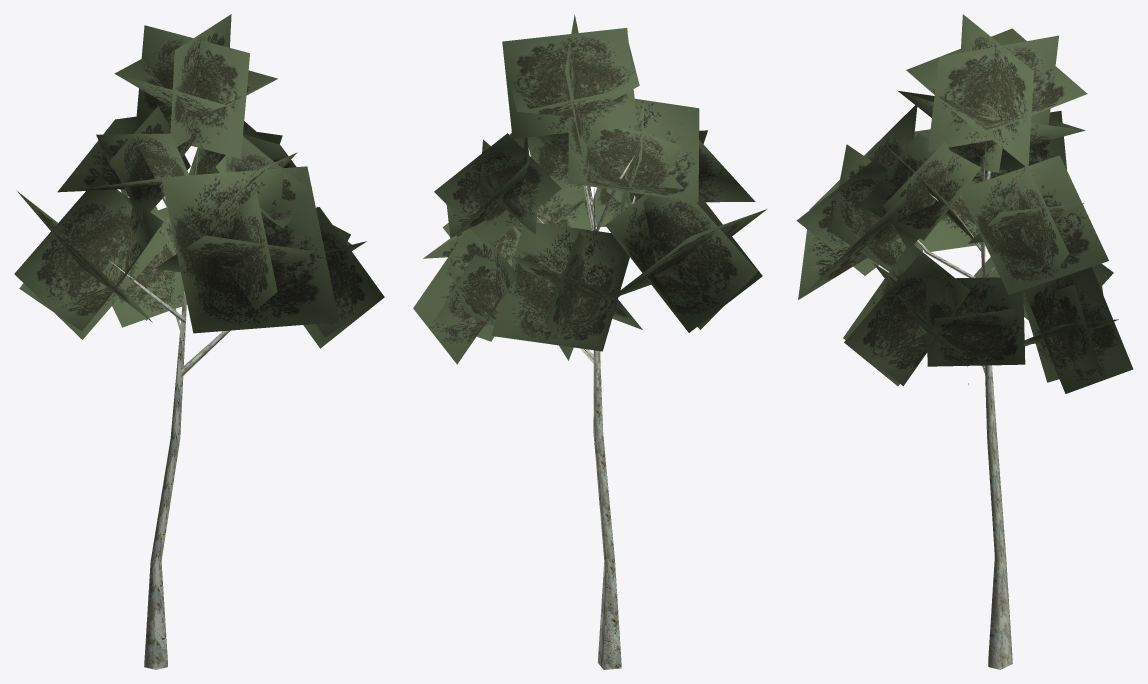
The model's file is ever_eucalyptus_short_l1.fbx.
The picture shows the model from 3 angles, left to right: view 1: azimuth 30°, elevation 25°; view 2: azimuth 150°, elevation 25°; view 3: azimuth 270°, elevation 25°; orthographic projection. The views are drawn at different scales.
Parts seen in each view (by area): view 1: mesh_node; view 2: mesh_node; view 3: mesh_node.
Boxes of the visible parts, <box> form: mesh_node: <box>14,14,384,669</box>; mesh_node: <box>413,14,766,669</box>; mesh_node: <box>796,14,1133,669</box>.
Bounding box in the file's own units: 10.61 × 19.32 × 9.07.
